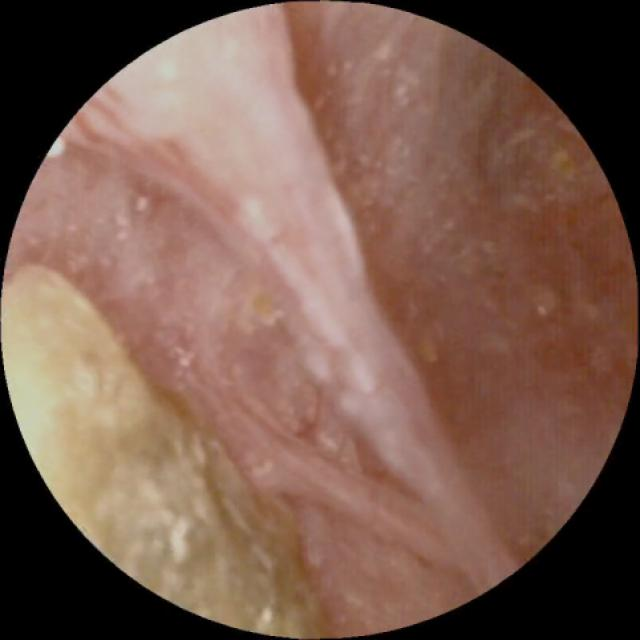stone: (8, 267, 332, 634)
tissue: (32, 14, 614, 628)
